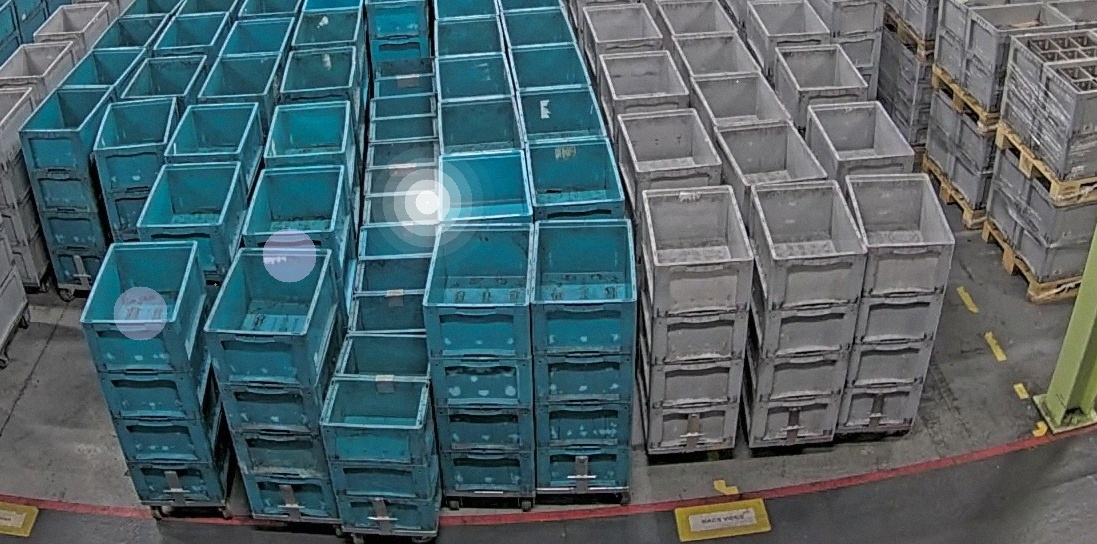4G: (741, 179, 869, 444), (637, 184, 756, 451), (836, 172, 957, 433)
B4: (76, 239, 234, 502), (202, 246, 344, 519), (420, 221, 535, 494), (530, 217, 639, 491), (91, 96, 181, 244)
B8: (318, 332, 442, 533)
